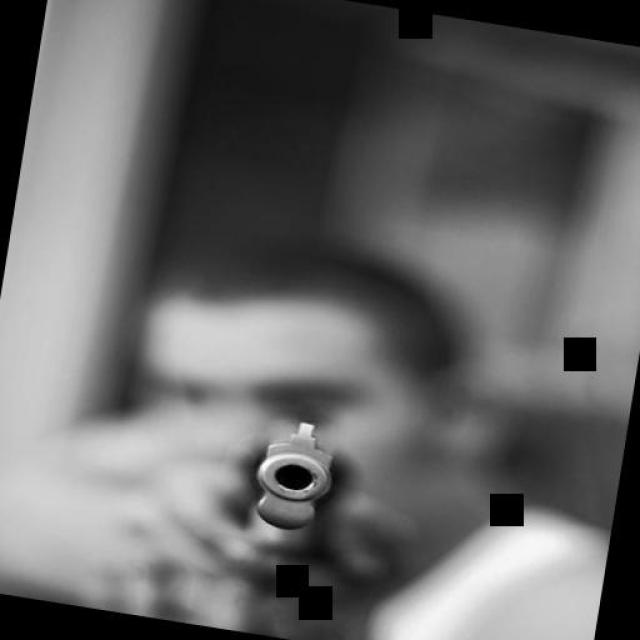gun: (221, 406, 360, 556)
